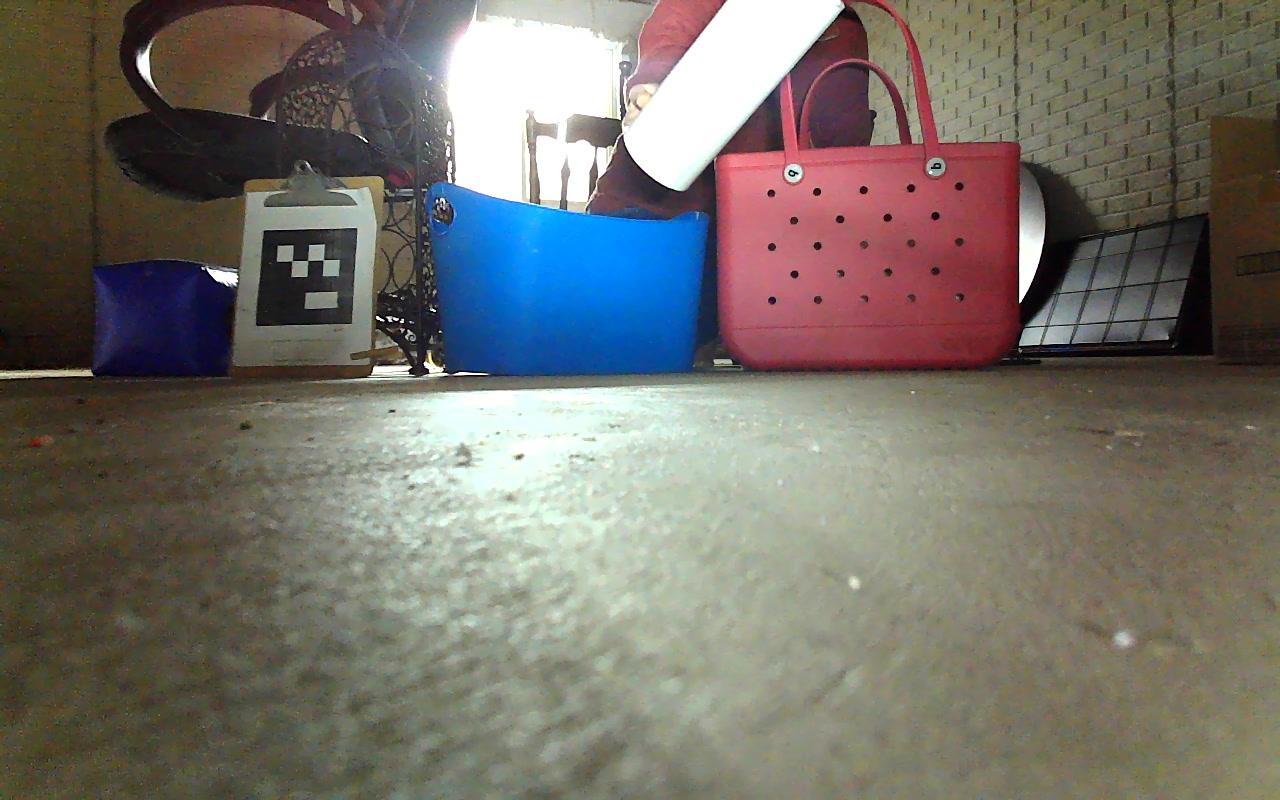coral: (616, 0, 852, 199)
